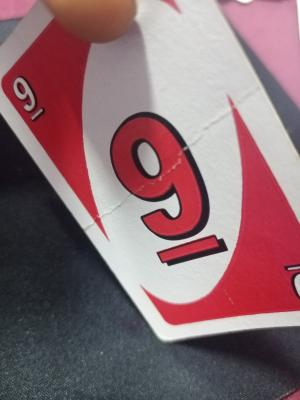num_9: (97, 111, 236, 269), (5, 64, 56, 130)
